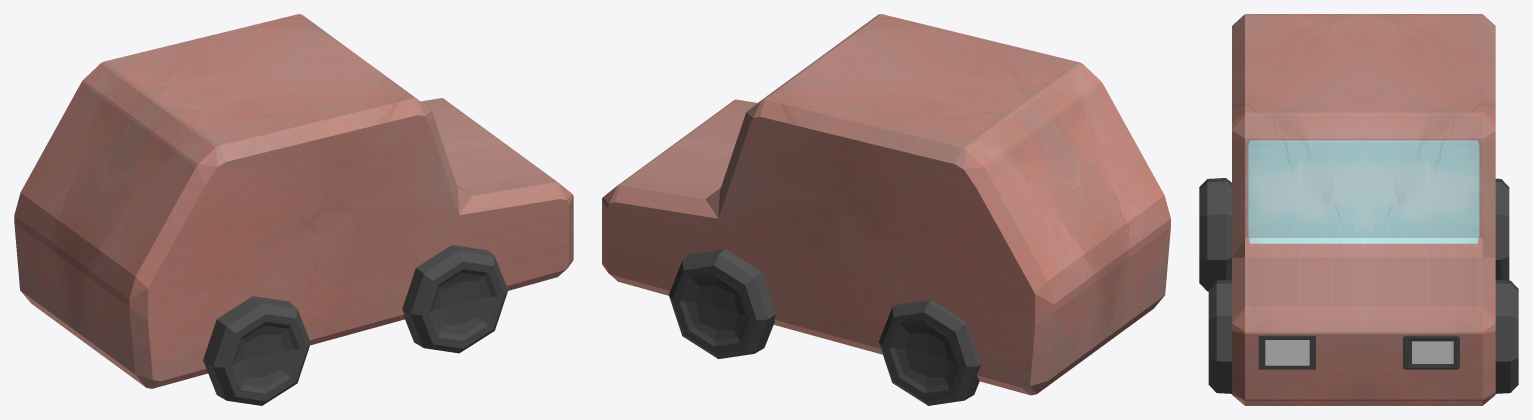
Rendered from fiat.fbx.
3 views of the same model, side by side, from view 1: azimuth 30°, elevation 25°; view 2: azimuth 150°, elevation 25°; view 3: azimuth 270°, elevation 25° (orthographic). The views are drawn at different scales.
Parts seen in each view (by area): view 1: Cube; view 2: Cube; view 3: Cube.
Part boxes in pixels (<box>): Cube: <box>14,14,573,405</box>; Cube: <box>602,14,1170,405</box>; Cube: <box>1199,14,1518,405</box>.
Size of the model in its own units: 402 by 219 by 242.
6 materials, 1 textured.
